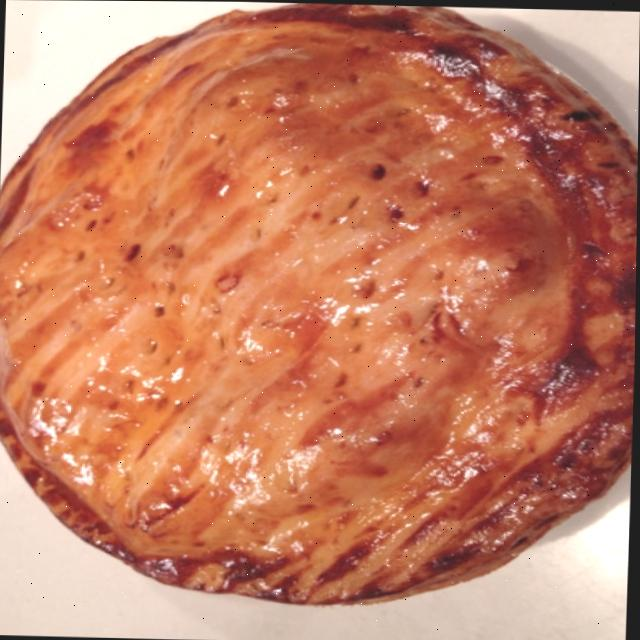炸货点心: (0, 21, 640, 608)
蛋糕甜品: (0, 21, 640, 608)
